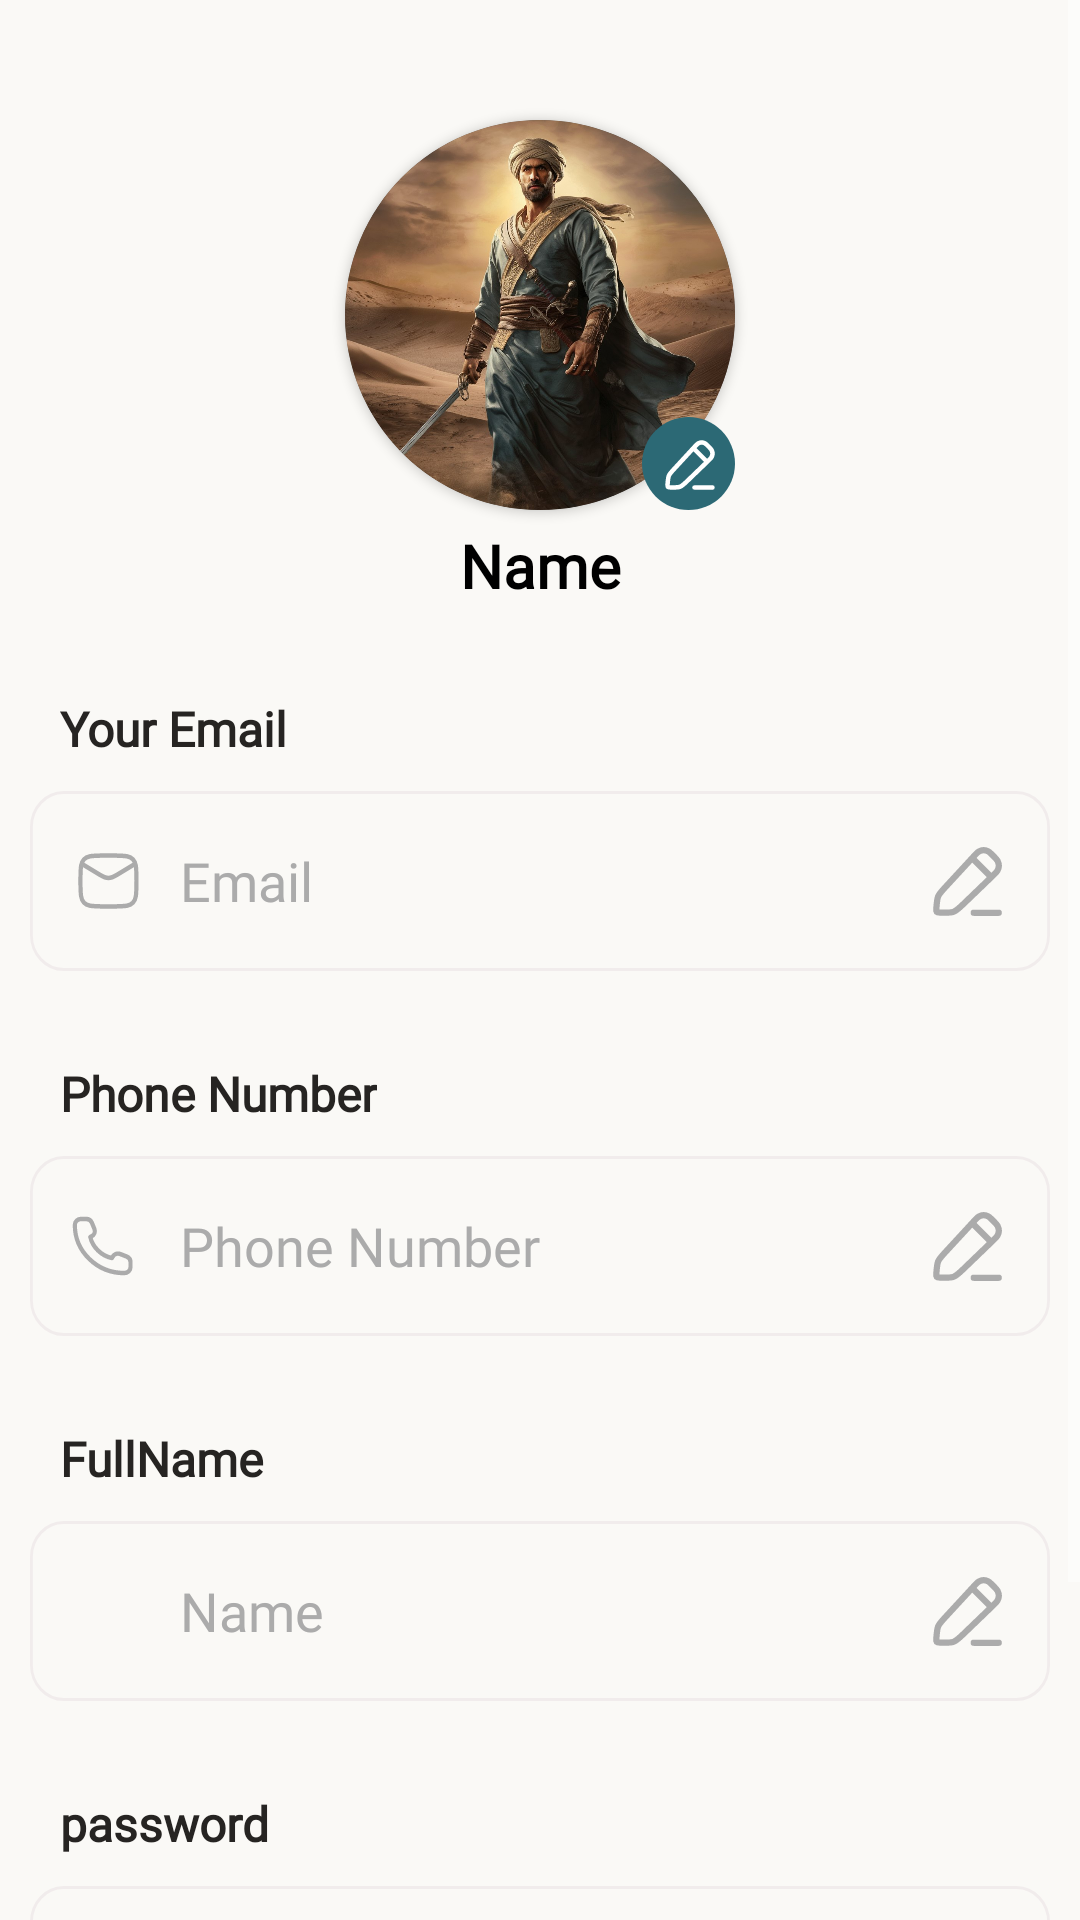

Where icons sit on this 1080*1920 app screen, as Rect(x1, y1, x2, y2):
blueedit: Rect(642, 417, 735, 510)
edit: Rect(933, 847, 1002, 916), Rect(933, 1212, 1002, 1281), Rect(933, 1577, 1002, 1646)
